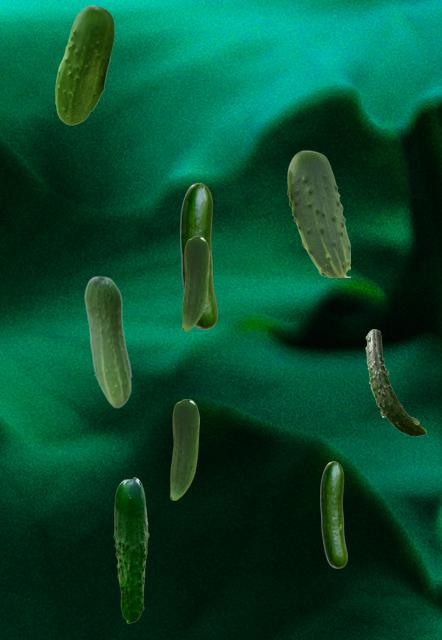cucumber: (287, 150, 349, 276), (55, 5, 113, 124), (365, 329, 425, 435), (84, 275, 131, 407), (180, 183, 216, 328), (113, 477, 148, 622), (170, 399, 198, 499), (320, 461, 346, 567), (182, 236, 208, 330)
